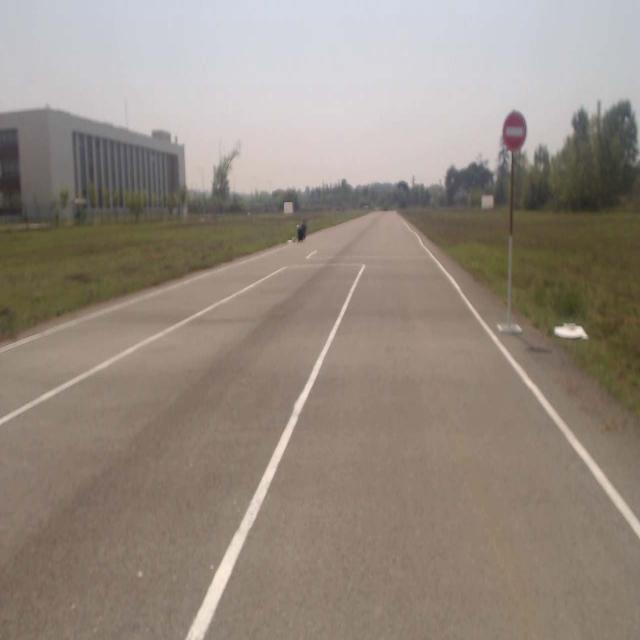girisyok: (503, 112, 527, 150)
